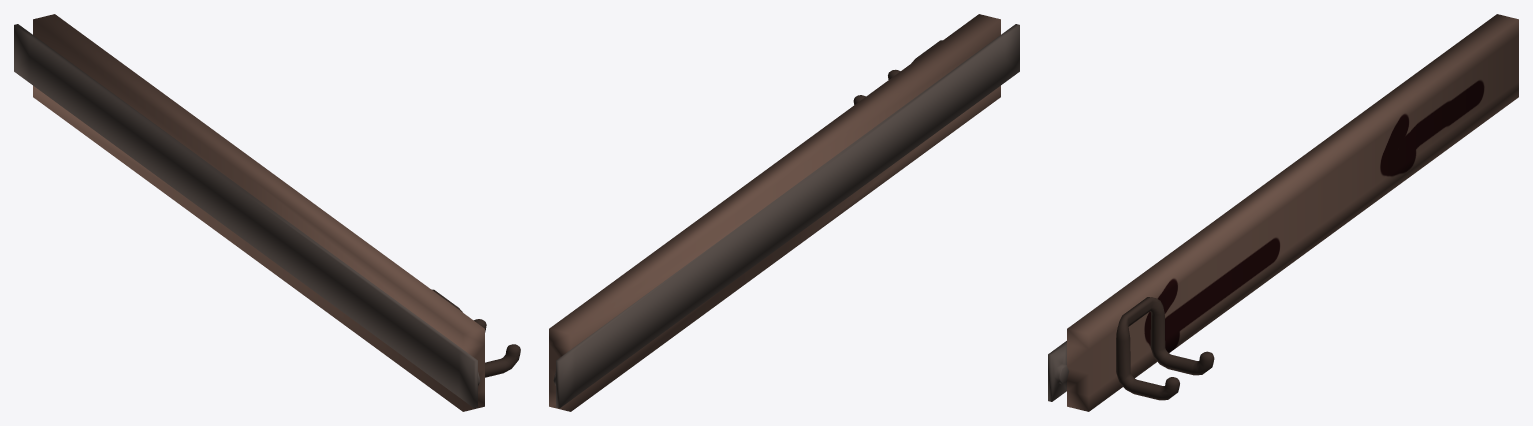
File: ToolRack.fbx
3 renders of one model, left to right at view 1: azimuth 30°, elevation 25°; view 2: azimuth 150°, elevation 25°; view 3: azimuth 330°, elevation 25°, orthographic.
Parts seen in each view (by area): view 1: ToolRackBaseBoard, ToolRackHook; view 2: ToolRackBaseBoard; view 3: ToolRackBaseBoard, ToolRackHook.
Part boxes in pixels (box(x1,y1,x2,y2)): ToolRackBaseBoard: box(14, 14, 484, 411); ToolRackHook: box(431, 289, 520, 377); ToolRackBaseBoard: box(549, 14, 1019, 411); ToolRackBaseBoard: box(1048, 14, 1518, 411); ToolRackHook: box(1116, 297, 1214, 400).
Bounding box in the file's own units: 23.61 × 20 × 214.
